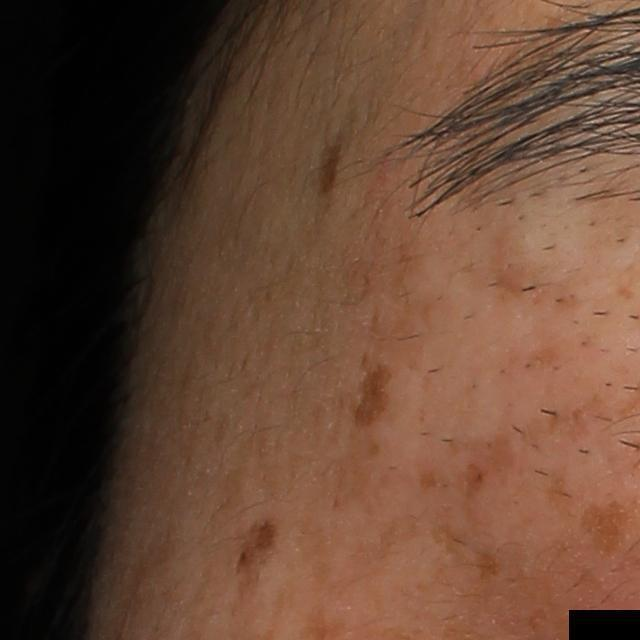melasma: (231, 514, 284, 594), (486, 218, 530, 303), (344, 359, 394, 432), (579, 495, 630, 555), (315, 132, 350, 198), (517, 332, 564, 379), (471, 550, 499, 587)
